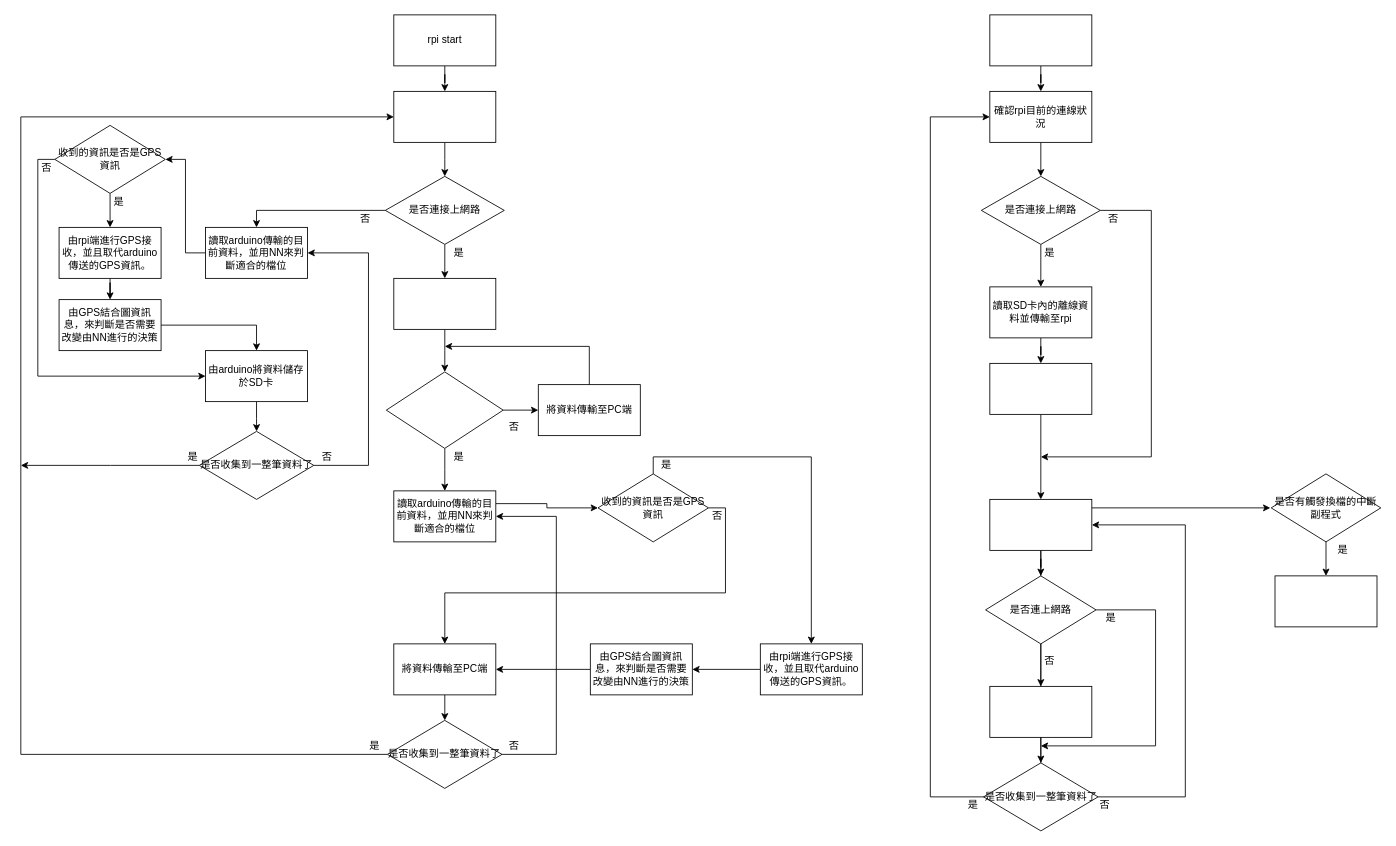
The diagram is 1396 pixels wide and 846 high, and some of its shapes have lost their labels. Each missing label, with the centre of its shape:
arduino start: (1040,40)
傳送離線資料已上傳結束的訊息給rpi: (1040,388)
將資料儲存於SD卡中: (1040,711)
接收各項感測器的資料，並確認檔位資訊是否符合目前設定: (1040,524)
接收由arduino傳輸的離線資料，並確認離線資料是否上傳結束: (444,409)
確認檔位資訊: (1325,601)
確認網路狀況: (444,116)
與PC取得連接: (444,303)
